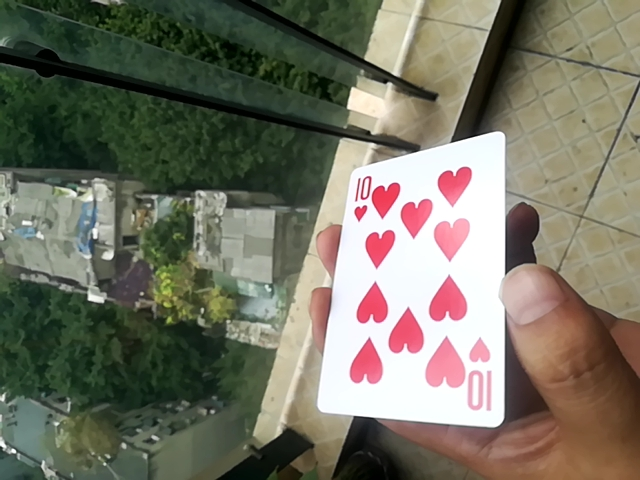hx 10: (318, 131, 510, 427)
